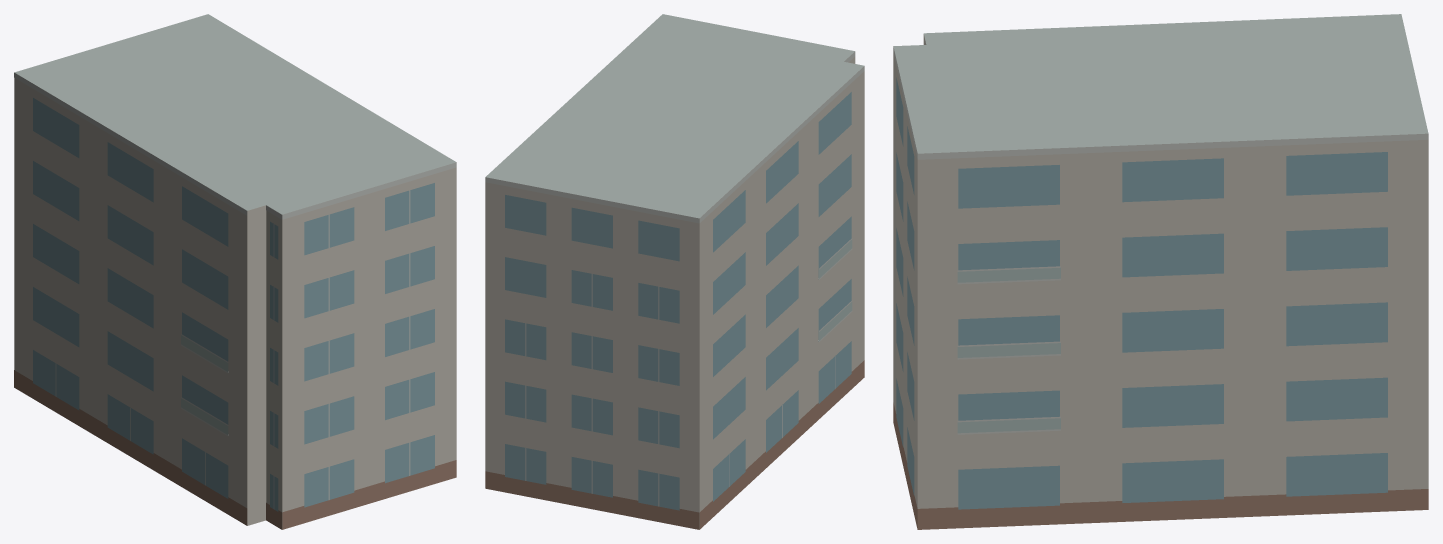
Rendered from survey-upis-32659357.glb.
3 views of the same model, side by side, from view 1: azimuth 30°, elevation 25°; view 2: azimuth 150°, elevation 25°; view 3: azimuth 270°, elevation 25° (orthographic). The views are drawn at different scales.
Parts seen in each view (by area): view 1: survey-upis-32659357.tmp; view 2: survey-upis-32659357.tmp; view 3: survey-upis-32659357.tmp.
Part boxes in pixels (x1=…): survey-upis-32659357.tmp: x1=14, y1=14, x2=456, y2=529; survey-upis-32659357.tmp: x1=485, y1=14, x2=864, y2=529; survey-upis-32659357.tmp: x1=893, y1=14, x2=1428, y2=529.
Size of the model in its own units: 12.04 by 15.1 by 19.48.
